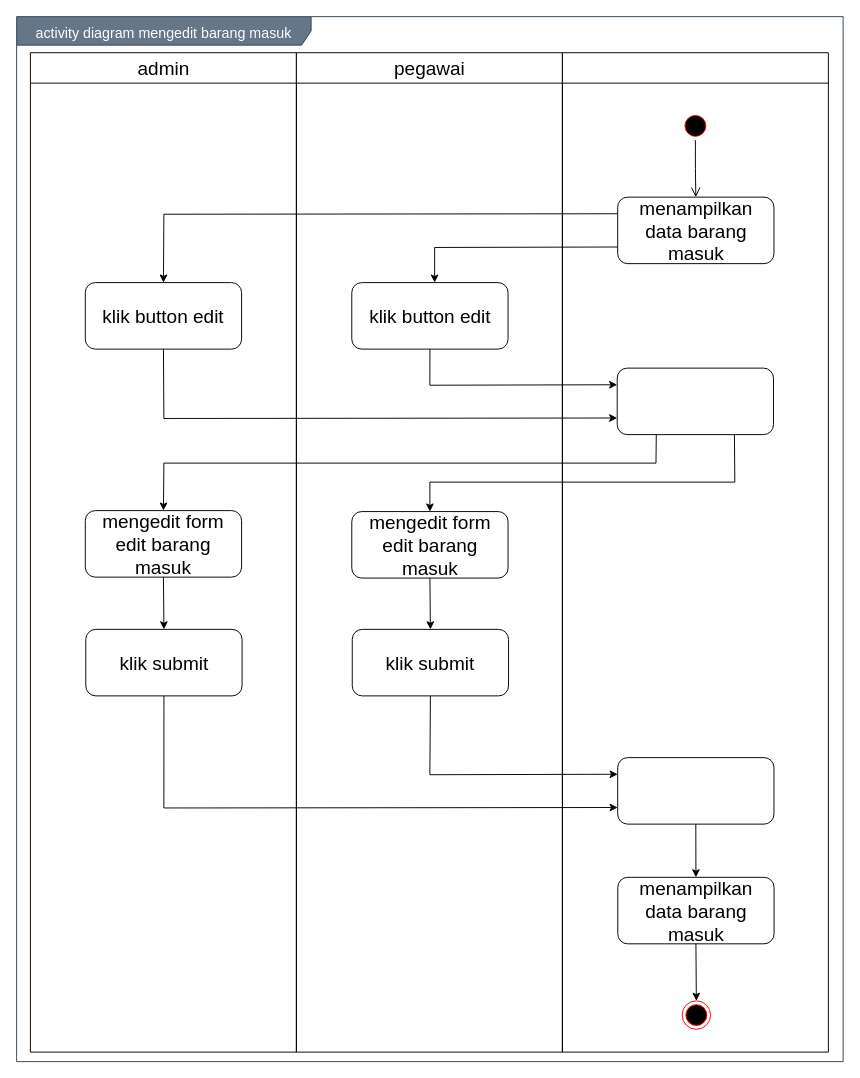
Some shapes in this 860 by 1078 pixel diagram are drawn without their labels. Here are the shapes that lost their labels. From the top down, the box of each, then its label:
(616, 367, 773, 435): menampilkan form edit barang masuk
(561, 52, 828, 1052): sistem
(617, 757, 774, 824): menyimpan ke database
